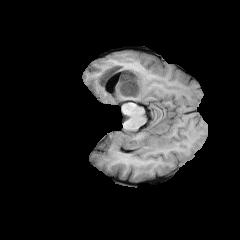glioma: (95, 65, 144, 102)
